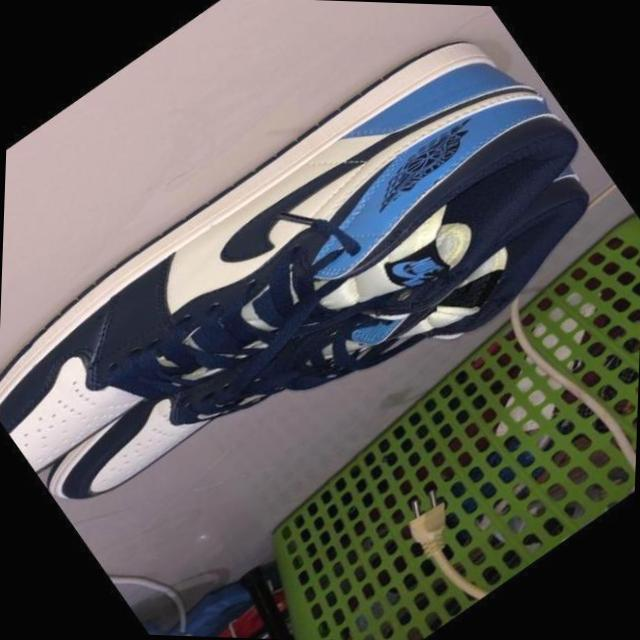nike_fake_jordan: (0, 0, 613, 566), (32, 85, 640, 600)
